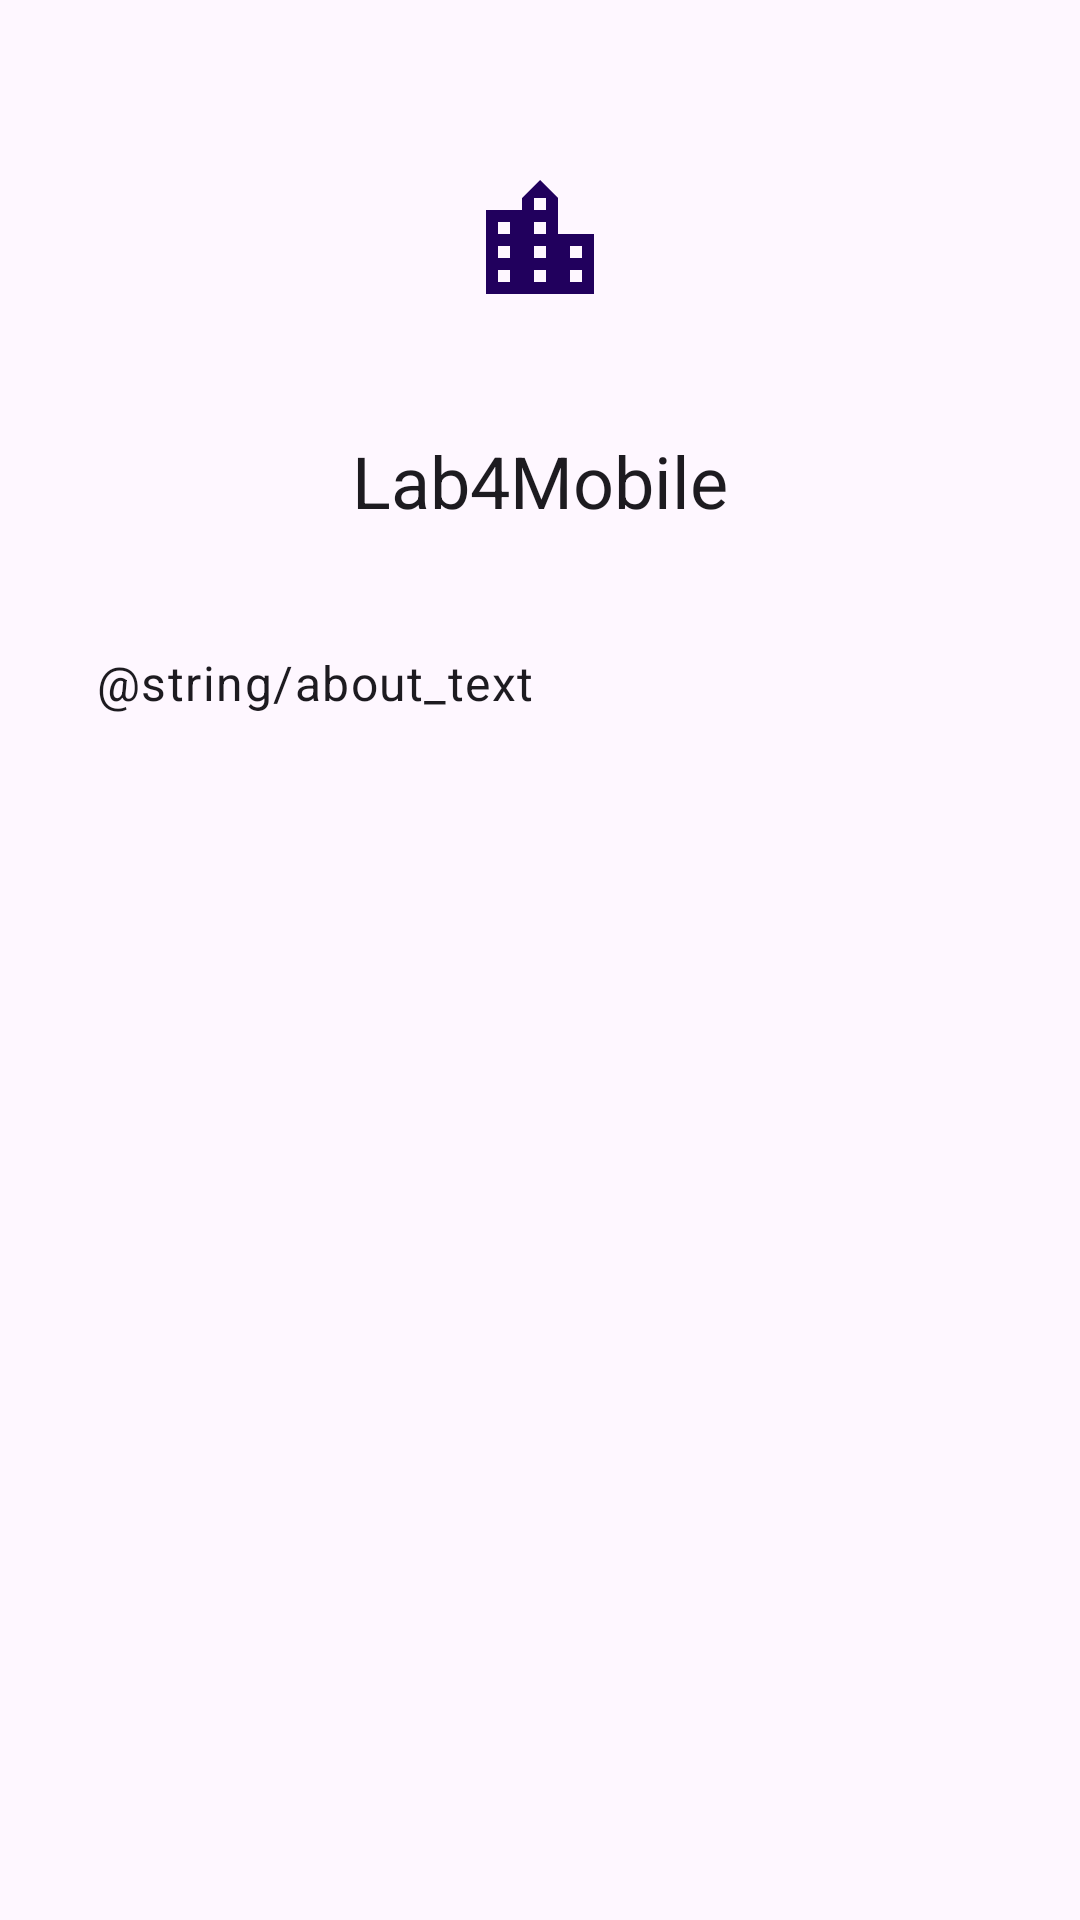

Icon bounding boxes for this 1080px x 1920px phone screenshot, format (left=x1, top=y1, right=x2, bottom=y2):
location city: (left=486, top=180, right=594, bottom=294)
